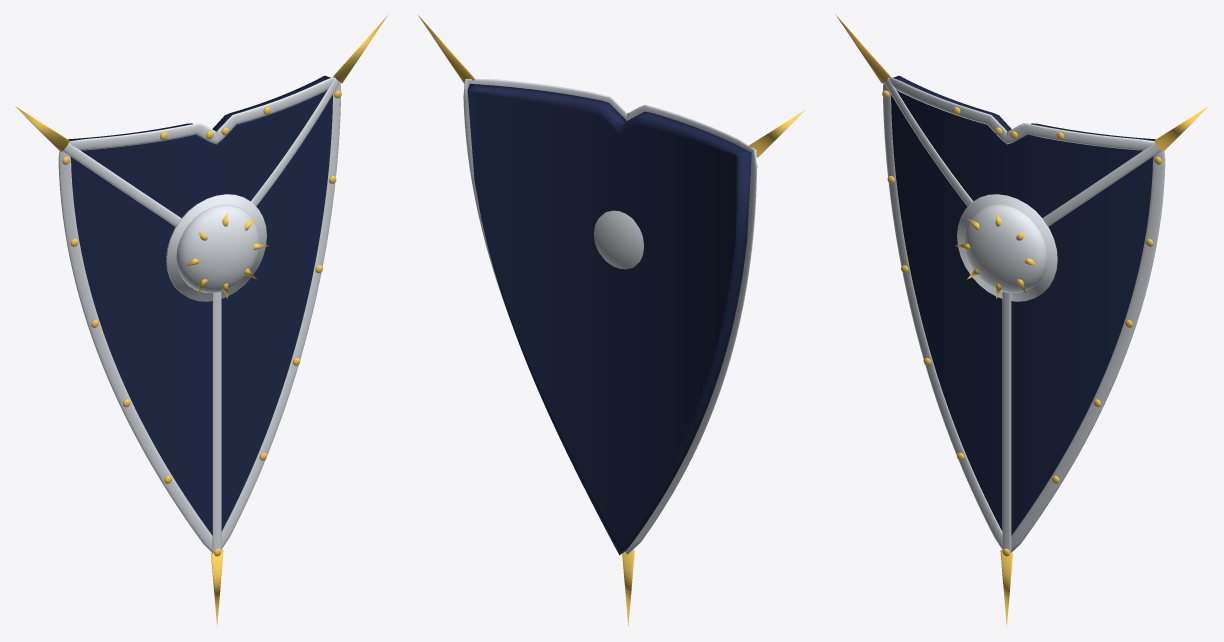
File: shield.glb
3 renders of one model, left to right at view 1: azimuth 30°, elevation 25°; view 2: azimuth 150°, elevation 25°; view 3: azimuth 330°, elevation 25°, orthographic. The views are drawn at different scales.
Visible parts, largest first — view 1: ShieldBase; view 2: ShieldBase; view 3: ShieldBase.
Part boxes in pixels (x1,y1,x2,y2): ShieldBase: [15, 14, 388, 626]; ShieldBase: [418, 15, 804, 625]; ShieldBase: [835, 14, 1208, 626].
Size of the model in its own units: 4.13 by 5.87 by 0.6847.
